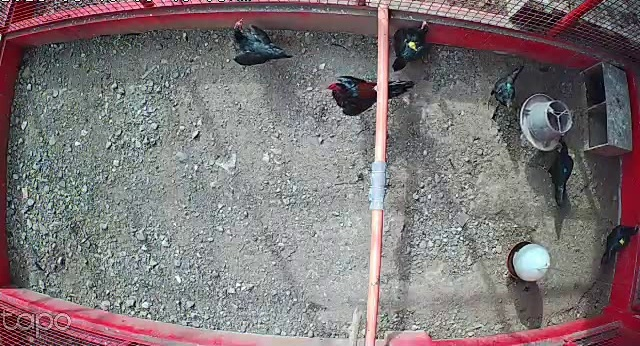Chicken: (225, 14, 296, 71), (538, 136, 575, 209), (391, 18, 437, 71), (484, 65, 528, 116), (600, 219, 640, 270)
Rooster: (324, 71, 418, 118)
Saddle_Color_Yellow: (404, 35, 419, 53)
Saddle_Color_YellowGreen: (618, 236, 627, 246)
